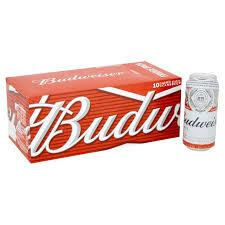beer: (183, 72, 219, 152)
